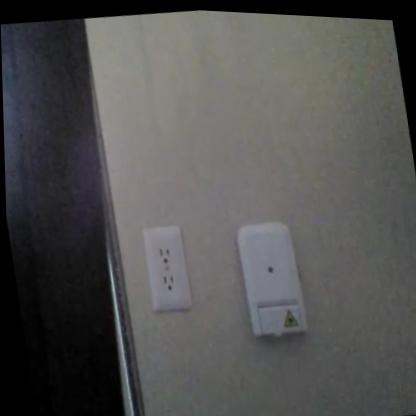OUTLET: (140, 222, 193, 314)
